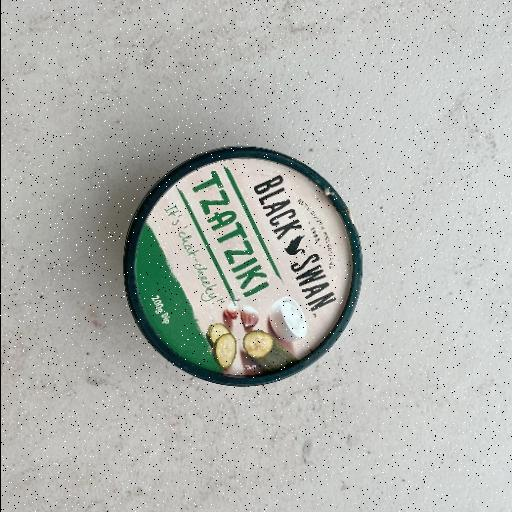Plastic: (120, 143, 366, 389)
